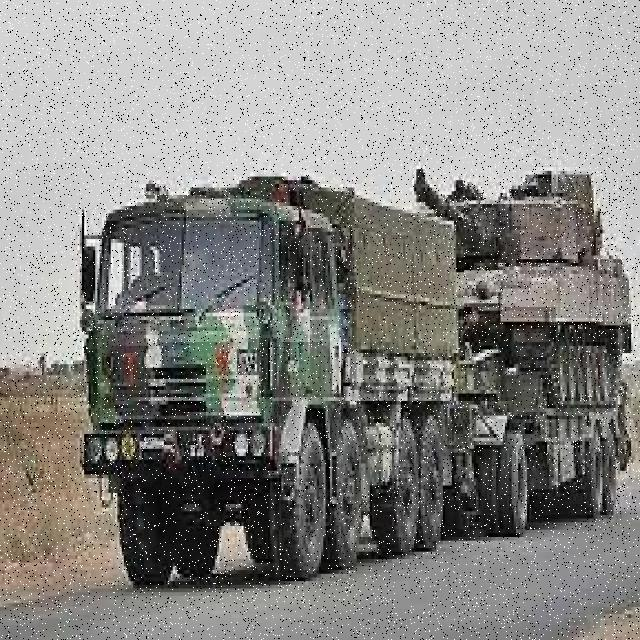MIL_MBT: (464, 138, 628, 335)
